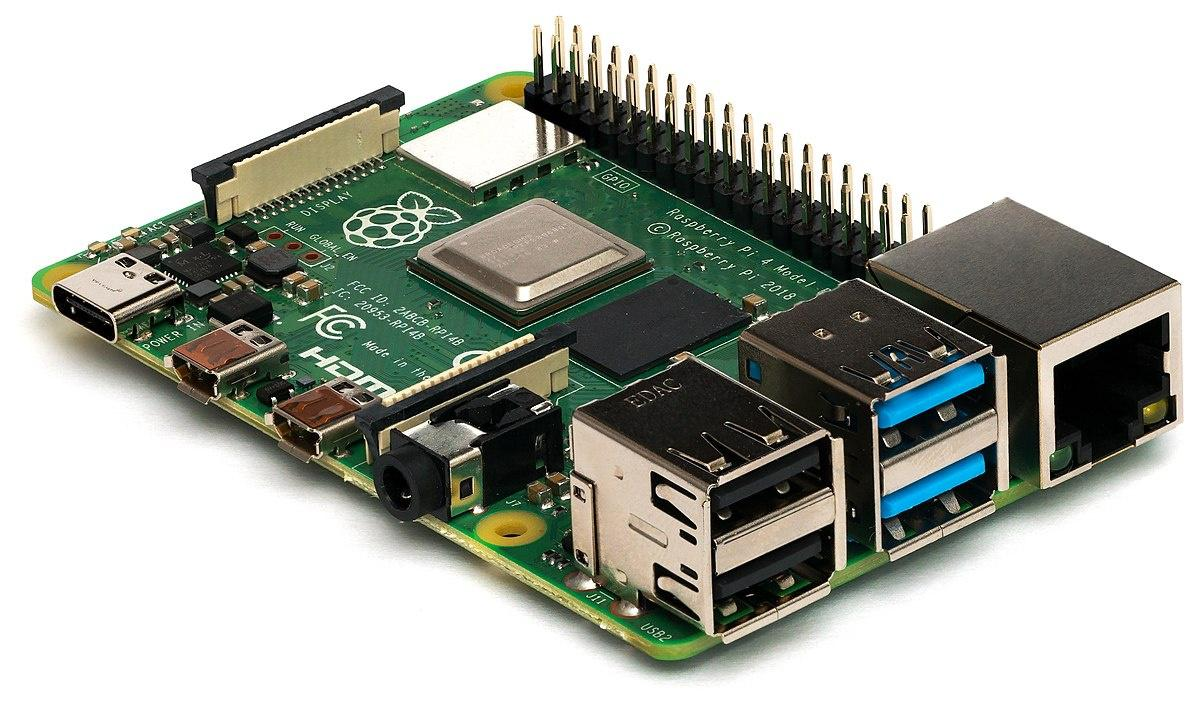audiojack: (361, 376, 566, 529)
bchi: (411, 197, 647, 320)
ethernet: (877, 194, 1185, 493)
gpio: (523, 16, 913, 258)
usb: (564, 355, 846, 636), (738, 276, 1012, 550)
